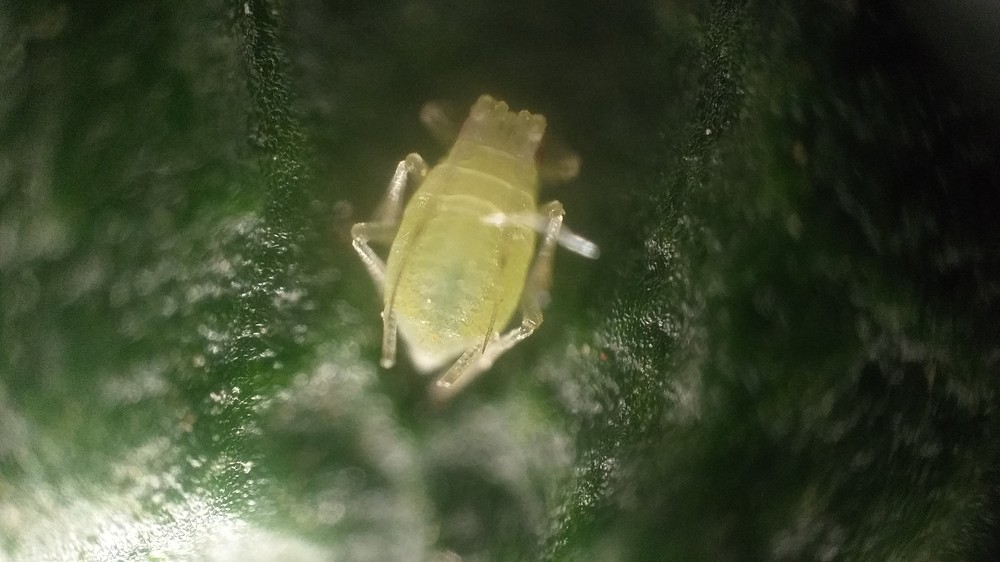Pulgon: (328, 78, 609, 401)
